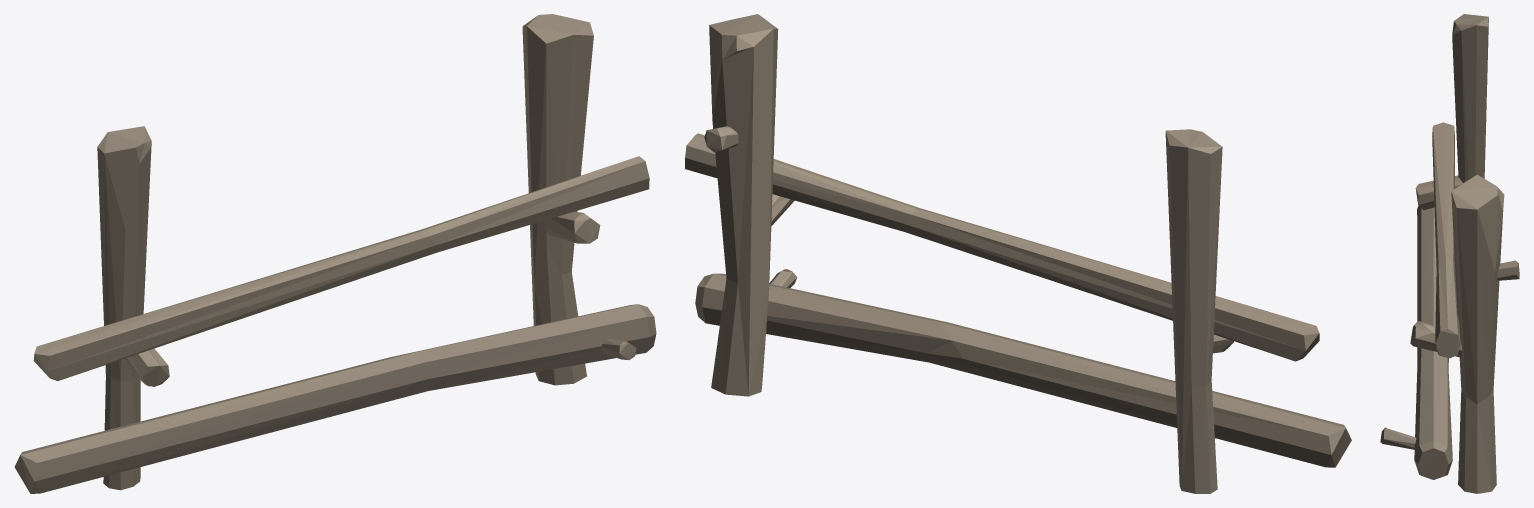
The model's file is fence_wood_01c.glb.
The picture shows the model from 3 angles, left to right: view 1: azimuth 30°, elevation 25°; view 2: azimuth 150°, elevation 25°; view 3: azimuth 270°, elevation 25°; orthographic projection. The views are drawn at different scales.
Parts seen in each view (by area): view 1: estructura.cerca.env_fence_wood_01c; view 2: estructura.cerca.env_fence_wood_01c; view 3: estructura.cerca.env_fence_wood_01c.
Part boxes in pixels (<box>): estructura.cerca.env_fence_wood_01c: <box>14,14,656,493</box>; estructura.cerca.env_fence_wood_01c: <box>685,14,1351,493</box>; estructura.cerca.env_fence_wood_01c: <box>1380,14,1519,493</box>.
Bounding box in the file's own units: 2.59 × 1.4 × 0.5959.
